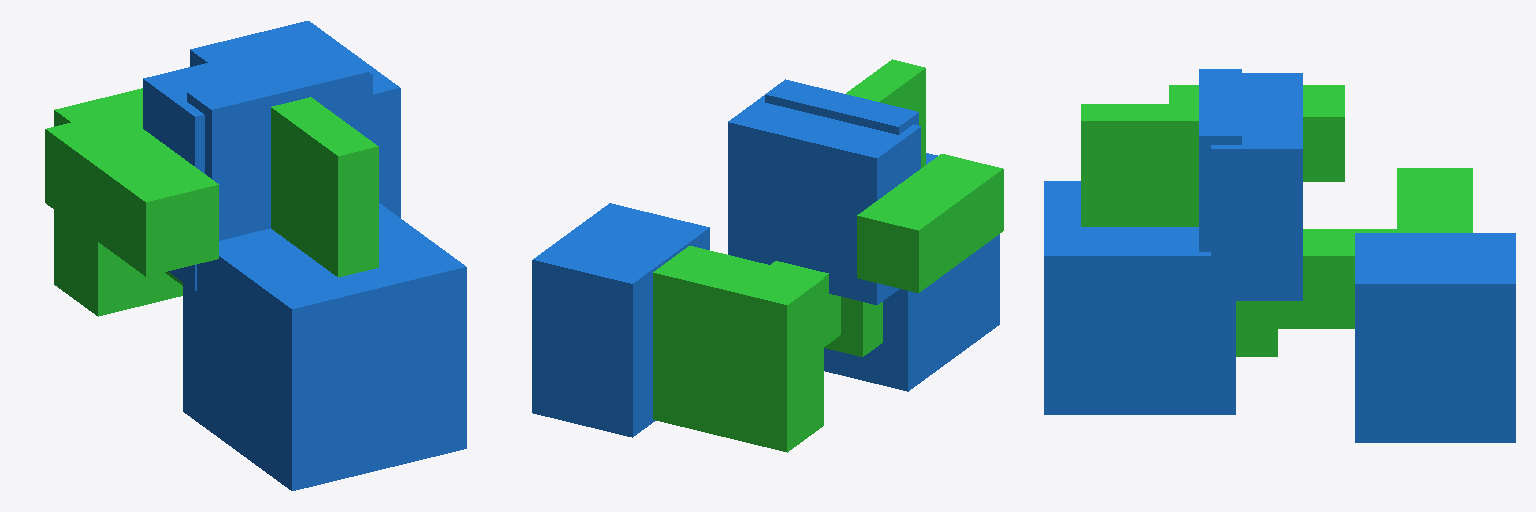
The robot description file, URDF, robot "robot":
<robot name = "robot">
    <link name="Link0">
        <inertial>
            <origin xyz="0 0 2" rpy="0 0 0"/>
            <mass value="0.24159438313137246" />
            <inertia ixx="100" ixy="0" ixz="0" iyy="100" iyz="0" izz="100" />
        </inertial>
        <visual>
            <origin xyz="0 0 2" rpy="0 0 0"/>
            <geometry>
                <box size="0.4719931710897395 1.1207323061773764 0.4567191553394264" />
            </geometry>
            <material name="Sensor">
                <color rgba="0.239 0.875 0.282 1.0"/>
            </material>
        </visual>
        <collision>
            <origin xyz="0 0 2" rpy="0 0 0"/>
            <geometry>
                <box size="0.4719931710897395 1.1207323061773764 0.4567191553394264" />
            </geometry>
        </collision>
    </link>
    <joint name="Link0_Link1" type="revolute">
       <parent link="Link0"/>
       <child  link="Link1"/>
       <origin rpy="0 0 0" xyz="0.23599658554486974 0 2" />
       <axis xyz="1 0 0"/>
       <limit effort="0.0" lower="-3.14159" upper="3.14159" velocity="0.0"/>
    </joint>
    <link name="Link1">
        <inertial>
            <origin xyz="0.5714300757180009 0 0" rpy="0 0 0"/>
            <mass value="0.7124975516153823" />
            <inertia ixx="100" ixy="0" ixz="0" iyy="100" iyz="0" izz="100" />
        </inertial>
        <visual>
            <origin xyz="0.5714300757180009 0 0" rpy="0 0 0"/>
            <geometry>
                <box size="1.1428601514360017 0.5819798053011772 1.0712291230578317" />
            </geometry>
            <material name="No Sensor">
                <color rgba="0.184 0.553 0.933 1.0"/>
            </material>
        </visual>
        <collision>
            <origin xyz="0.5714300757180009 0 0" rpy="0 0 0"/>
            <geometry>
                <box size="1.1428601514360017 0.5819798053011772 1.0712291230578317" />
            </geometry>
        </collision>
    </link>
    <joint name="Link1_Link2" type="revolute">
       <parent link="Link1"/>
       <child  link="Link2"/>
       <origin rpy="0 0 0" xyz="0.5714300757180009 0.0 -0.5356145615289158" />
       <axis xyz="0 0 1"/>
       <limit effort="0.0" lower="-3.14159" upper="3.14159" velocity="0.0"/>
    </joint>
    <link name="Link2">
        <inertial>
            <origin xyz="0.0 0.0 -0.24438846638816086" rpy="0 0 0"/>
            <mass value="0.09816769621995919" />
            <inertia ixx="100" ixy="0" ixz="0" iyy="100" iyz="0" izz="100" />
        </inertial>
        <visual>
            <origin xyz="0.0 0.0 -0.24438846638816086" rpy="0 0 0"/>
            <geometry>
                <box size="0.7420568700511907 0.2706578996279936 0.4887769327763217" />
            </geometry>
            <material name="Sensor">
                <color rgba="0.239 0.875 0.282 1.0"/>
            </material>
        </visual>
        <collision>
            <origin xyz="0.0 0.0 -0.24438846638816086" rpy="0 0 0"/>
            <geometry>
                <box size="0.7420568700511907 0.2706578996279936 0.4887769327763217" />
            </geometry>
        </collision>
    </link>
    <joint name="Link2_Link3" type="revolute">
       <parent link="Link2"/>
       <child  link="Link3"/>
       <origin rpy="0 0 0" xyz="0.0 -0.1353289498139968 -0.24438846638816086" />
       <axis xyz="0 1 0"/>
       <limit effort="0.0" lower="-3.14159" upper="3.14159" velocity="0.0"/>
    </joint>
    <link name="Link3">
        <inertial>
            <origin xyz="0.0 -0.6092703314104659 0.0" rpy="0 0 0"/>
            <mass value="1.5321151085328013" />
            <inertia ixx="100" ixy="0" ixz="0" iyy="100" iyz="0" izz="100" />
        </inertial>
        <visual>
            <origin xyz="0.0 -0.6092703314104659 0.0" rpy="0 0 0"/>
            <geometry>
                <box size="1.1234294027918161 1.2185406628209319 1.11919454021392" />
            </geometry>
            <material name="No Sensor">
                <color rgba="0.184 0.553 0.933 1.0"/>
            </material>
        </visual>
        <collision>
            <origin xyz="0.0 -0.6092703314104659 0.0" rpy="0 0 0"/>
            <geometry>
                <box size="1.1234294027918161 1.2185406628209319 1.11919454021392" />
            </geometry>
        </collision>
    </link>
    <joint name="Link3_Link4" type="revolute">
       <parent link="Link3"/>
       <child  link="Link4"/>
       <origin rpy="0 0 0" xyz="0.0 -0.6092703314104659 0.55959727010696" />
       <axis xyz="1 0 0"/>
       <limit effort="0.0" lower="-3.14159" upper="3.14159" velocity="0.0"/>
    </joint>
    <link name="Link4">
        <inertial>
            <origin xyz="0.0 0.0 0.37288664656707304" rpy="0 0 0"/>
            <mass value="0.14599907611527876" />
            <inertia ixx="100" ixy="0" ixz="0" iyy="100" iyz="0" izz="100" />
        </inertial>
        <visual>
            <origin xyz="0.0 0.0 0.37288664656707304" rpy="0 0 0"/>
            <geometry>
                <box size="0.26037415388569995 0.7518745921487388 0.7457732931341461" />
            </geometry>
            <material name="Sensor">
                <color rgba="0.239 0.875 0.282 1.0"/>
            </material>
        </visual>
        <collision>
            <origin xyz="0.0 0.0 0.37288664656707304" rpy="0 0 0"/>
            <geometry>
                <box size="0.26037415388569995 0.7518745921487388 0.7457732931341461" />
            </geometry>
        </collision>
    </link>
    <joint name="Link4_Link5" type="revolute">
       <parent link="Link4"/>
       <child  link="Link5"/>
       <origin rpy="0 0 0" xyz="0.0 0.3759372960743694 0.37288664656707304" />
       <axis xyz="0 1 0"/>
       <limit effort="0.0" lower="-3.14159" upper="3.14159" velocity="0.0"/>
    </joint>
    <link name="Link5">
        <inertial>
            <origin xyz="0.0 0.13537597467970075 0.0" rpy="0 0 0"/>
            <mass value="0.2443504350150486" />
            <inertia ixx="100" ixy="0" ixz="0" iyy="100" iyz="0" izz="100" />
        </inertial>
        <visual>
            <origin xyz="0.0 0.13537597467970075 0.0" rpy="0 0 0"/>
            <geometry>
                <box size="1.0213206432667459 0.2707519493594015 0.8836482349262754" />
            </geometry>
            <material name="No Sensor">
                <color rgba="0.184 0.553 0.933 1.0"/>
            </material>
        </visual>
        <collision>
            <origin xyz="0.0 0.13537597467970075 0.0" rpy="0 0 0"/>
            <geometry>
                <box size="1.0213206432667459 0.2707519493594015 0.8836482349262754" />
            </geometry>
        </collision>
    </link>
    <joint name="Link5_Link6" type="revolute">
       <parent link="Link5"/>
       <child  link="Link6"/>
       <origin rpy="0 0 0" xyz="0.0 0.13537597467970075 -0.4418241174631377" />
       <axis xyz="0 0 1"/>
       <limit effort="0.0" lower="-3.14159" upper="3.14159" velocity="0.0"/>
    </joint>
    <link name="Link6">
        <inertial>
            <origin xyz="0.0 0.0 -0.3566092632491723" rpy="0 0 0"/>
            <mass value="0.0826955686865952" />
            <inertia ixx="100" ixy="0" ixz="0" iyy="100" iyz="0" izz="100" />
        </inertial>
        <visual>
            <origin xyz="0.0 0.0 -0.3566092632491723" rpy="0 0 0"/>
            <geometry>
                <box size="0.4302696888767692 0.2694752414876246 0.7132185264983446" />
            </geometry>
            <material name="Sensor">
                <color rgba="0.239 0.875 0.282 1.0"/>
            </material>
        </visual>
        <collision>
            <origin xyz="0.0 0.0 -0.3566092632491723" rpy="0 0 0"/>
            <geometry>
                <box size="0.4302696888767692 0.2694752414876246 0.7132185264983446" />
            </geometry>
        </collision>
    </link>
    <joint name="Link6_Link7" type="revolute">
       <parent link="Link6"/>
       <child  link="Link7"/>
       <origin rpy="0 0 0" xyz="0.0 0.1347376207438123 -0.3566092632491723" />
       <axis xyz="0 1 0"/>
       <limit effort="0.0" lower="-3.14159" upper="3.14159" velocity="0.0"/>
    </joint>
    <link name="Link7">
        <inertial>
            <origin xyz="0.0 0.4950248482577024 0.0" rpy="0 0 0"/>
            <mass value="0.20539853719865275" />
            <inertia ixx="100" ixy="0" ixz="0" iyy="100" iyz="0" izz="100" />
        </inertial>
        <visual>
            <origin xyz="0.0 0.4950248482577024 0.0" rpy="0 0 0"/>
            <geometry>
                <box size="0.40416284237967237 0.9900496965154048 0.5133150151851347" />
            </geometry>
            <material name="Sensor">
                <color rgba="0.239 0.875 0.282 1.0"/>
            </material>
        </visual>
        <collision>
            <origin xyz="0.0 0.4950248482577024 0.0" rpy="0 0 0"/>
            <geometry>
                <box size="0.40416284237967237 0.9900496965154048 0.5133150151851347" />
            </geometry>
        </collision>
    </link>
    <joint name="Link7_Link8" type="revolute">
       <parent link="Link7"/>
       <child  link="Link8"/>
       <origin rpy="0 0 0" xyz="0.0 0.9900496965154048 0.0" />
       <axis xyz="0 1 0"/>
       <limit effort="0.0" lower="-3.14159" upper="3.14159" velocity="0.0"/>
    </joint>
    <link name="Link8">
        <inertial>
            <origin xyz="0.0 0.24377061001745615 0.0" rpy="0 0 0"/>
            <mass value="0.5382643443625381" />
            <inertia ixx="100" ixy="0" ixz="0" iyy="100" iyz="0" izz="100" />
        </inertial>
        <visual>
            <origin xyz="0.0 0.24377061001745615 0.0" rpy="0 0 0"/>
            <geometry>
                <box size="1.0277024105738202 0.4875412200349123 1.0742785326613684" />
            </geometry>
            <material name="Sensor">
                <color rgba="0.239 0.875 0.282 1.0"/>
            </material>
        </visual>
        <collision>
            <origin xyz="0.0 0.24377061001745615 0.0" rpy="0 0 0"/>
            <geometry>
                <box size="1.0277024105738202 0.4875412200349123 1.0742785326613684" />
            </geometry>
        </collision>
    </link>
    <joint name="Link8_Link9" type="revolute">
       <parent link="Link8"/>
       <child  link="Link9"/>
       <origin rpy="0 0 0" xyz="0.5138512052869101 0.24377061001745615 0.0" />
       <axis xyz="0 1 0"/>
       <limit effort="0.0" lower="-3.14159" upper="3.14159" velocity="0.0"/>
    </joint>
    <link name="Link9">
        <inertial>
            <origin xyz="0.3819716718863451 0.0 0.0" rpy="0 0 0"/>
            <mass value="0.8757712431768542" />
            <inertia ixx="100" ixy="0" ixz="0" iyy="100" iyz="0" izz="100" />
        </inertial>
        <visual>
            <origin xyz="0.3819716718863451 0.0 0.0" rpy="0 0 0"/>
            <geometry>
                <box size="0.7639433437726902 1.0231650520792968 1.1204276857248128" />
            </geometry>
            <material name="No Sensor">
                <color rgba="0.184 0.553 0.933 1.0"/>
            </material>
        </visual>
        <collision>
            <origin xyz="0.3819716718863451 0.0 0.0" rpy="0 0 0"/>
            <geometry>
                <box size="0.7639433437726902 1.0231650520792968 1.1204276857248128" />
            </geometry>
        </collision>
    </link>
</robot>

--- Render facts (derived) ---
The picture shows the robot from 3 angles, left to right: view 1: azimuth 30°, elevation 25°; view 2: azimuth 150°, elevation 25°; view 3: azimuth 270°, elevation 25°; orthographic projection.
Model robot with 10 links and 9 joints (9 revolute), rooted at Link0, posed every joint at zero.
Visible links, largest first — view 1: Link3, Link0, Link4, Link5, Link8, Link1, Link9; view 2: Link8, Link9, Link1, Link0, Link3, Link5, Link4, Link2, Link7; view 3: Link3, Link9, Link1, Link4, Link7, Link8, Link0, Link5, Link2.
Link boxes in pixels (bbox=[...]): Link3: bbox=[183, 203, 466, 490]; Link0: bbox=[45, 111, 218, 276]; Link4: bbox=[271, 97, 378, 277]; Link5: bbox=[187, 54, 369, 240]; Link8: bbox=[54, 88, 182, 316]; Link1: bbox=[143, 35, 372, 290]; Link9: bbox=[190, 21, 400, 217]; Link8: bbox=[653, 246, 823, 452]; Link9: bbox=[532, 203, 709, 437]; Link1: bbox=[728, 95, 920, 304]; Link0: bbox=[857, 154, 1003, 292]; Link3: bbox=[824, 153, 999, 391]; Link5: bbox=[765, 79, 918, 134]; Link4: bbox=[846, 59, 925, 167]; Link2: bbox=[824, 297, 882, 356]; Link7: bbox=[771, 261, 840, 346]; Link3: bbox=[1044, 181, 1235, 414]; Link9: bbox=[1355, 233, 1515, 442]; Link1: bbox=[1211, 73, 1302, 300]; Link4: bbox=[1081, 104, 1198, 226]; Link7: bbox=[1278, 229, 1396, 328]; Link8: bbox=[1397, 168, 1472, 232]; Link0: bbox=[1169, 85, 1344, 181]; Link5: bbox=[1199, 69, 1241, 251]; Link2: bbox=[1236, 301, 1277, 356].
Size in the robot's own frame: 2.32 by 3 by 1.93 metres.
Geometry: primitives only (box / cylinder / sphere), no mesh files.